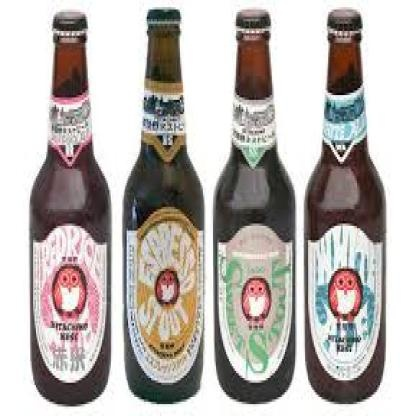trash: (214, 9, 294, 402), (30, 12, 109, 404), (306, 8, 384, 402), (124, 9, 202, 402)
